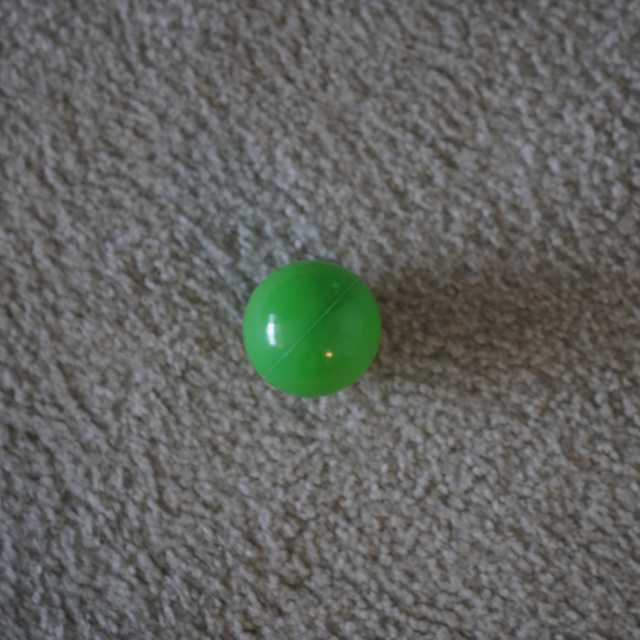Ball: (236, 259, 381, 397)
